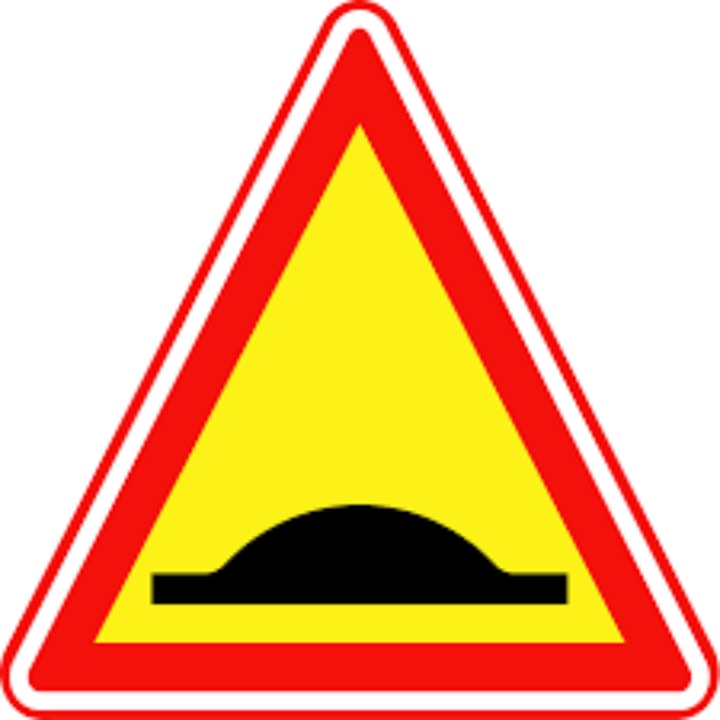bump: (1, 1, 720, 720)
